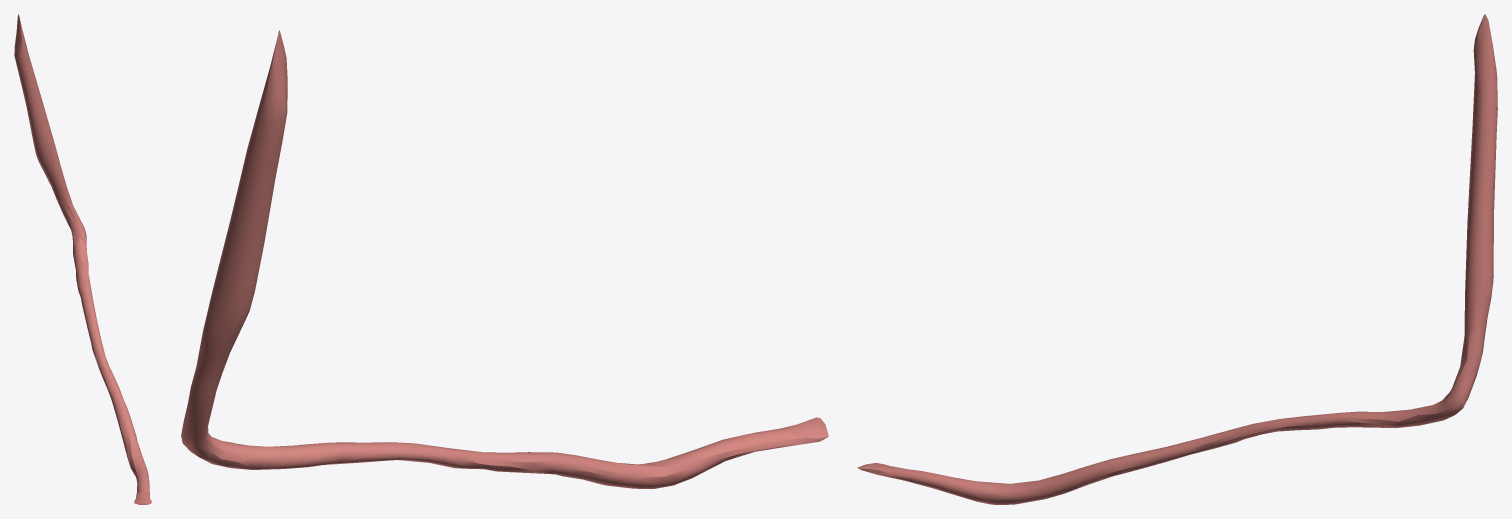
The model's file is fma47201_mm1688m.glb.
The picture shows the model from 3 angles, left to right: view 1: azimuth 30°, elevation 25°; view 2: azimuth 150°, elevation 25°; view 3: azimuth 270°, elevation 25°; orthographic projection. The views are drawn at different scales.
Visible parts, largest first — view 1: FMA47201_MM1688M; view 2: FMA47201_MM1688M; view 3: FMA47201_MM1688M.
Part boxes in pixels (left/top/right/bottom): FMA47201_MM1688M: left=14, top=14, right=152, bottom=504; FMA47201_MM1688M: left=181, top=30, right=828, bottom=488; FMA47201_MM1688M: left=857, top=14, right=1497, bottom=504.
Bounding box in the file's own units: 0.0653 × 0.152 × 0.1702.
